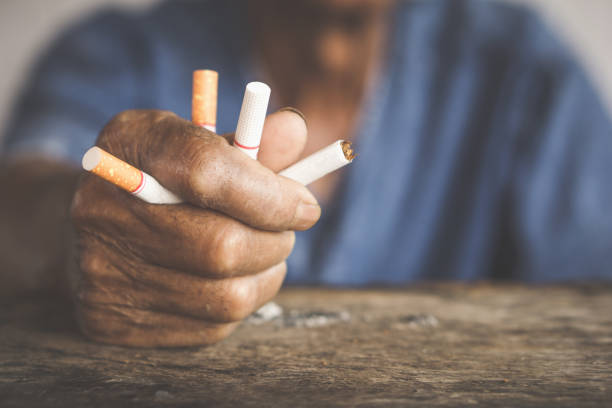cigarette: (82, 146, 184, 205), (275, 138, 355, 186), (232, 81, 272, 162), (192, 71, 218, 134)
